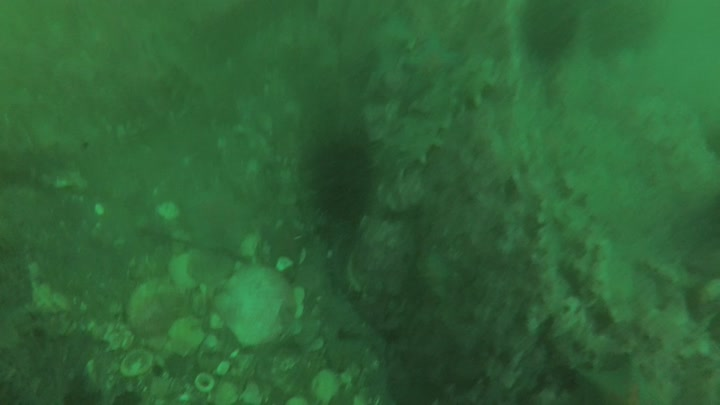echinus: (304, 137, 375, 232), (521, 4, 581, 62)
holothurian: (396, 54, 495, 168)
starfish: (642, 296, 698, 355)
